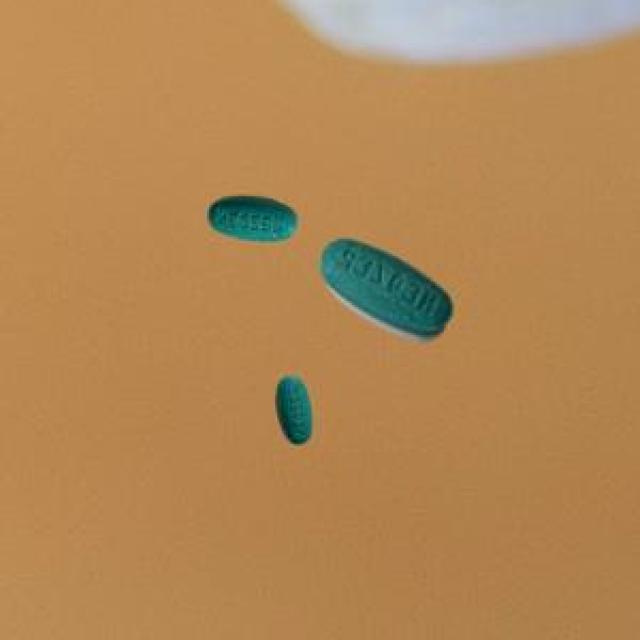Neozep: (308, 235, 460, 350), (201, 192, 303, 246), (268, 369, 326, 453)
